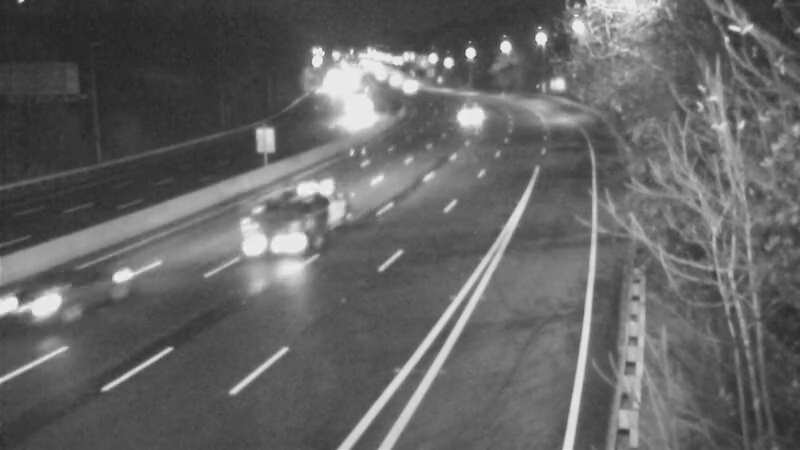vehicle: (248, 199, 328, 279), (1, 260, 79, 340), (442, 85, 492, 135), (321, 94, 371, 144)
